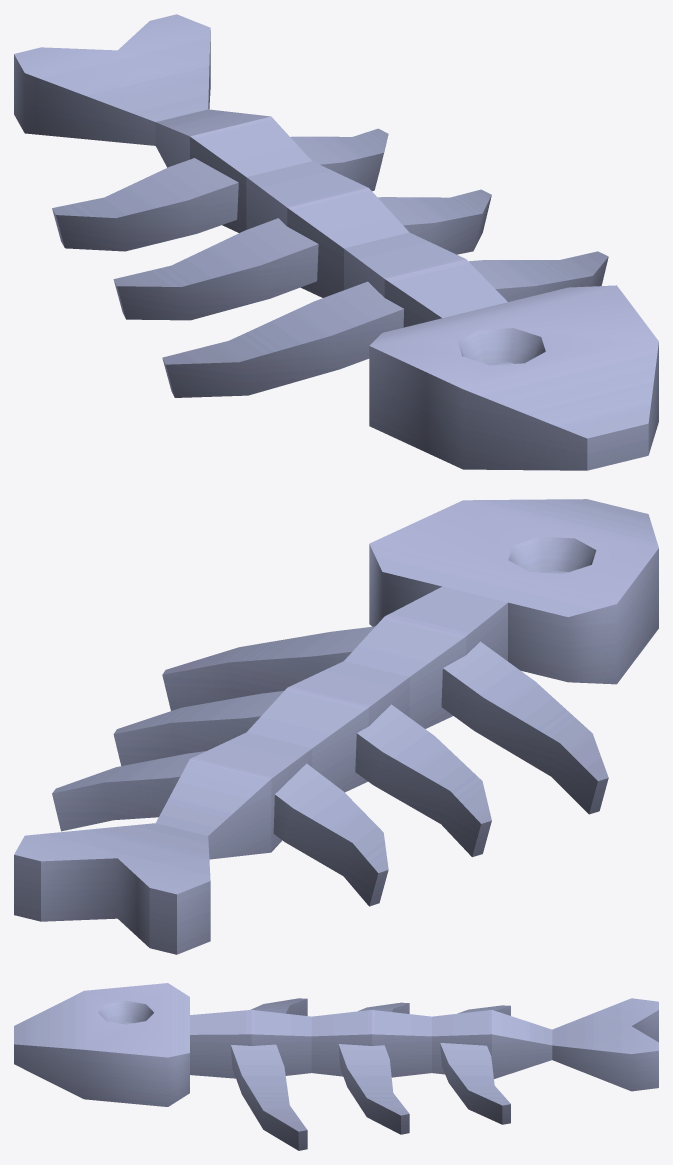
File: fish-bones.glb
3 views of the same model, one above another, from view 1: azimuth 30°, elevation 25°; view 2: azimuth 150°, elevation 25°; view 3: azimuth 270°, elevation 25° (orthographic). The views are drawn at different scales.
Visible parts, largest first — view 1: fish-bones; view 2: fish-bones; view 3: fish-bones.
Part boxes in pixels (x1,y1,x2,y2): fish-bones: (14, 14, 658, 470); fish-bones: (14, 499, 658, 954); fish-bones: (14, 983, 658, 1150).
Bounding box in the file's own units: 0.3113 × 0.0726 × 0.6358.
1 material, 1 textured.
